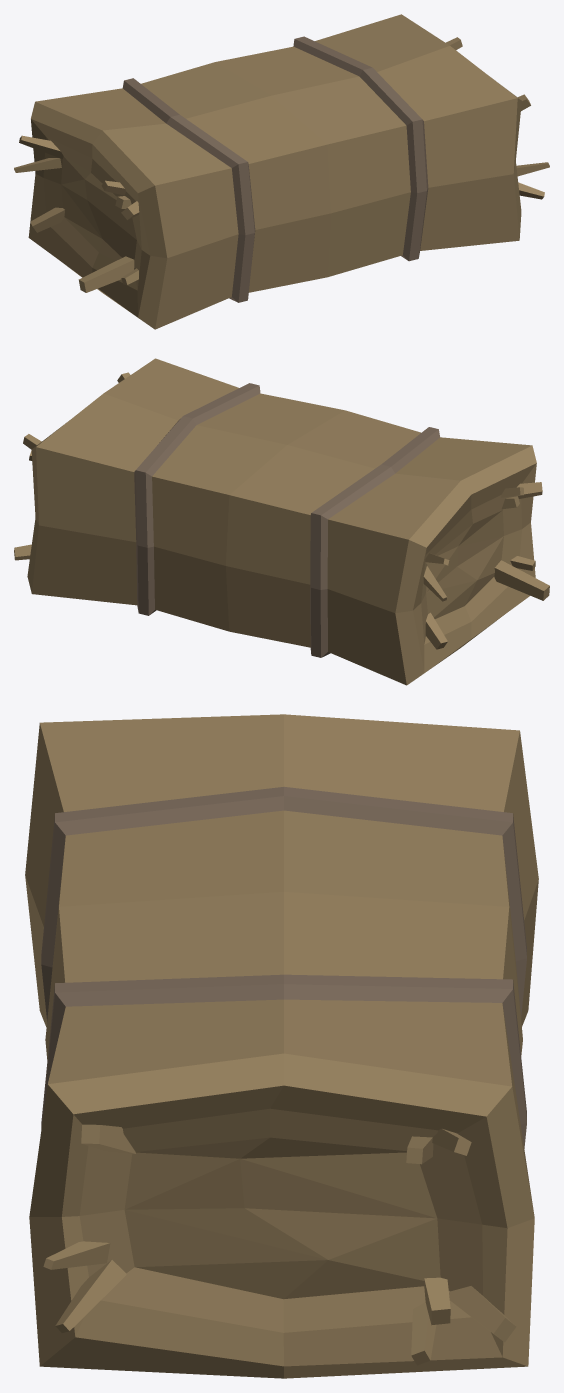
Rendered from hay_bale.glb.
3 renders of one model, top to bottom at view 1: azimuth 30°, elevation 25°; view 2: azimuth 150°, elevation 25°; view 3: azimuth 270°, elevation 25°, orthographic. The views are drawn at different scales.
Visible parts, largest first — view 1: SM_Prop_Hay_Bale_01; view 2: SM_Prop_Hay_Bale_01; view 3: SM_Prop_Hay_Bale_01.
Part boxes in pixels (x1,y1,x2,y2): SM_Prop_Hay_Bale_01: [14, 14, 549, 329]; SM_Prop_Hay_Bale_01: [14, 358, 549, 685]; SM_Prop_Hay_Bale_01: [25, 714, 538, 1378].
Bounding box in the file's own units: 1.82 × 0.6381 × 0.9139.
Materials: 1 (1 with a texture image).
